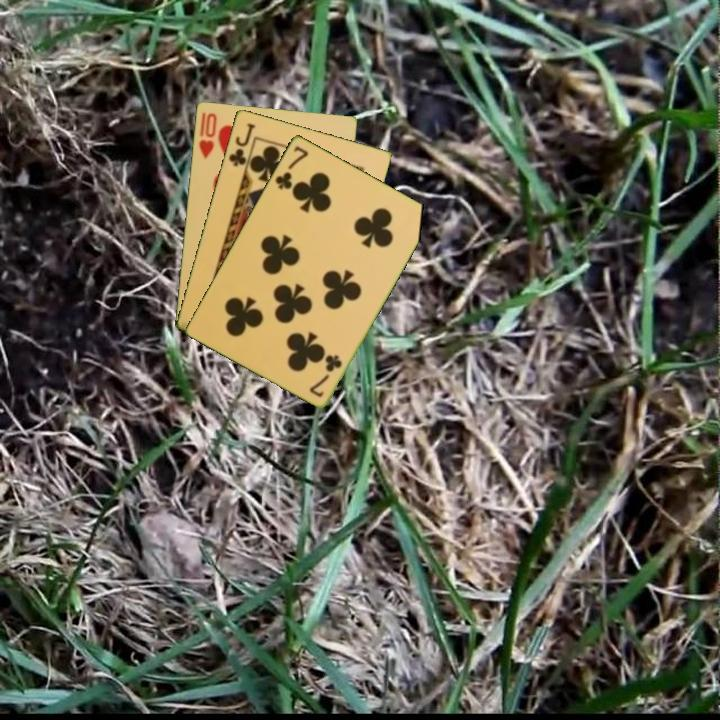10h: (195, 108, 219, 161)
7c: (271, 142, 311, 192), (306, 351, 345, 400)
Jc: (225, 119, 258, 169)
